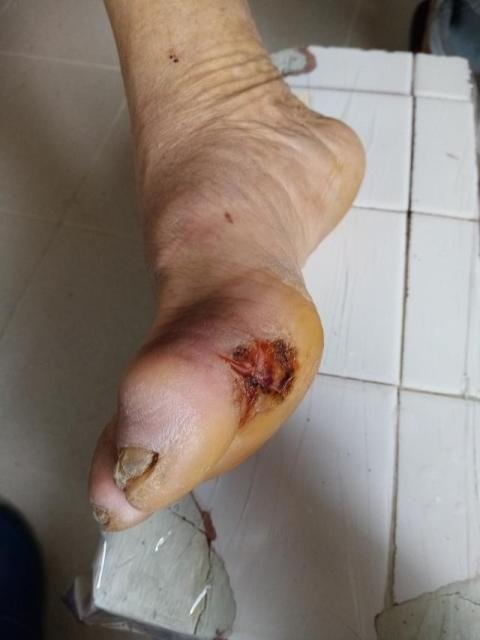wound: (217, 337, 300, 427)
